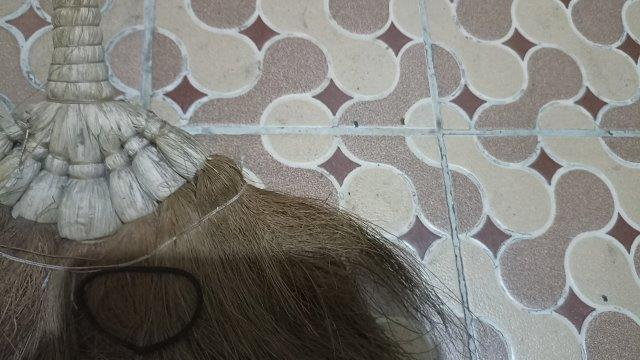karet: (78, 266, 203, 353)
